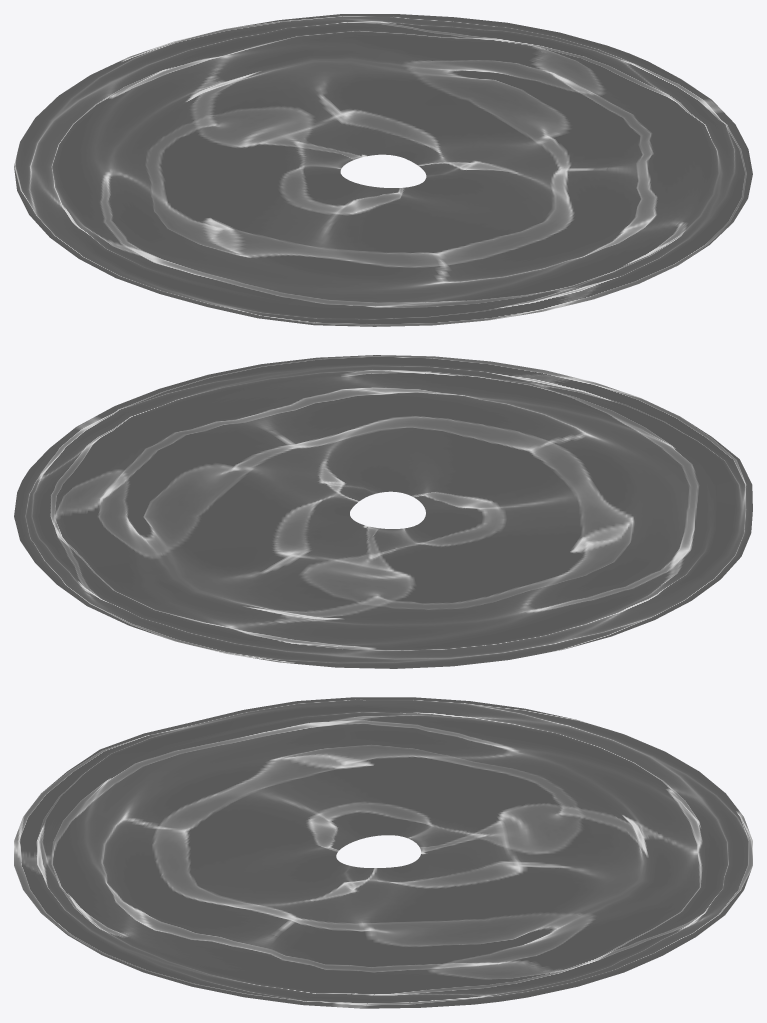
File: FlatSphere.fbx
3 renders of one model, top to bottom at view 1: azimuth 30°, elevation 25°; view 2: azimuth 150°, elevation 25°; view 3: azimuth 270°, elevation 25°, orthographic.
Parts seen in each view (by area): view 1: flatSphere; view 2: flatSphere; view 3: flatSphere.
Part boxes in pixels (box(x1,y1,x2,y2)): flatSphere: box(14, 14, 752, 326); flatSphere: box(14, 355, 752, 668); flatSphere: box(14, 697, 752, 1008).
Size of the model in its own units: 11.4 by 0.0378 by 11.43.
Materials: 1 (1 with a texture image).
